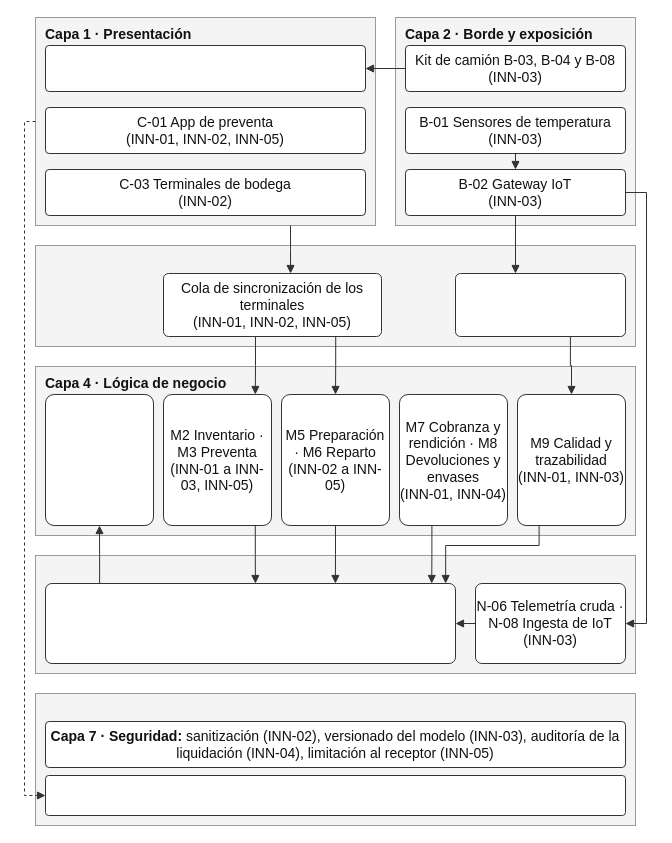
Image size: 672x843. Some labels were removed from this diagram. The shapes that lost their labels are listed below. From the top down, each one's box as (x1, y1, x2, y2) in pixels, then its label:
(44, 44, 366, 92): C-02 App de reparto e impresora de cabina (INN-02, INN-03, INN-05)
(34, 244, 636, 346): Capa 5 · Integración y eventos
(454, 272, 626, 336): Eventos EPCIS 2.0 con datos de sensor (INN-03)
(44, 394, 154, 526): M10 Analítica (INN-01, INN-03, INN-04, INN-05)
(44, 582, 456, 664): N-10 Plataforma analítica (INN-01, INN-03, INN-04, INN-05)
(34, 554, 636, 674): Capa 6 · Acceso a datos
(34, 692, 636, 826): Capas transversales
(44, 774, 626, 816): Capa 8 · Observabilidad: trazas OpenTelemetry y Amazon CloudWatch (INN-02)
